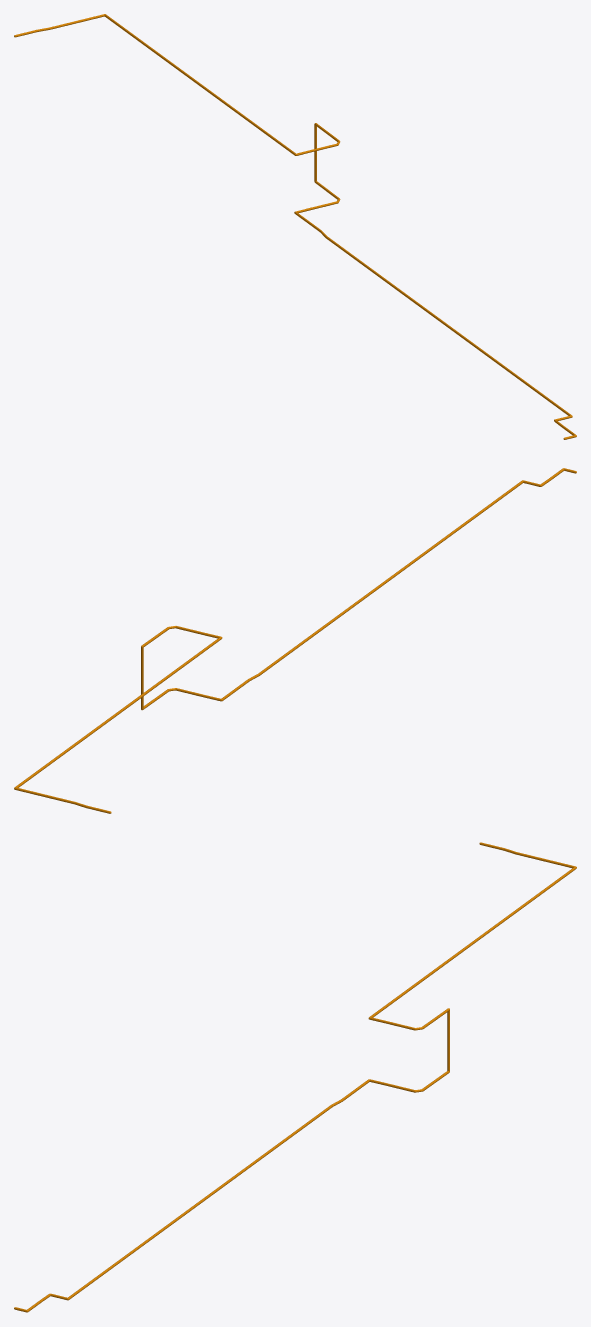
3 renders of one model, top to bottom at view 1: azimuth 30°, elevation 25°; view 2: azimuth 150°, elevation 25°; view 3: azimuth 330°, elevation 25°, orthographic. The views are drawn at different scales.
Bounding box in the file's own units: 1248 × 520 × 7729.
